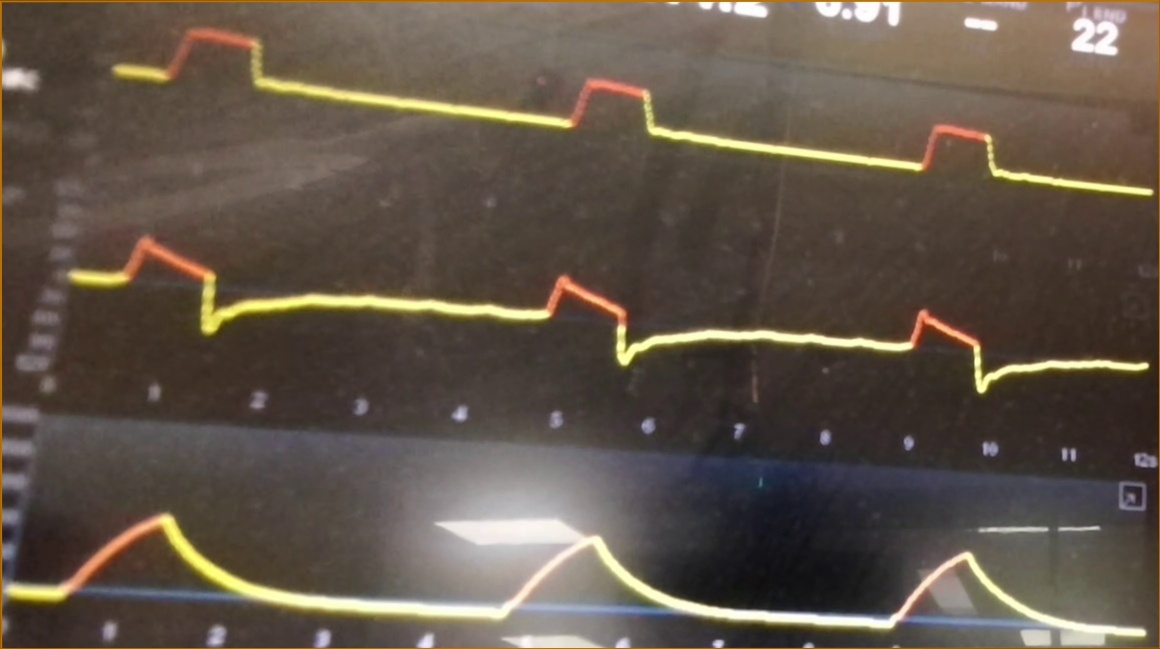Normal Flow: (69, 222, 1149, 394)
Normal Volume: (8, 493, 1144, 640)
